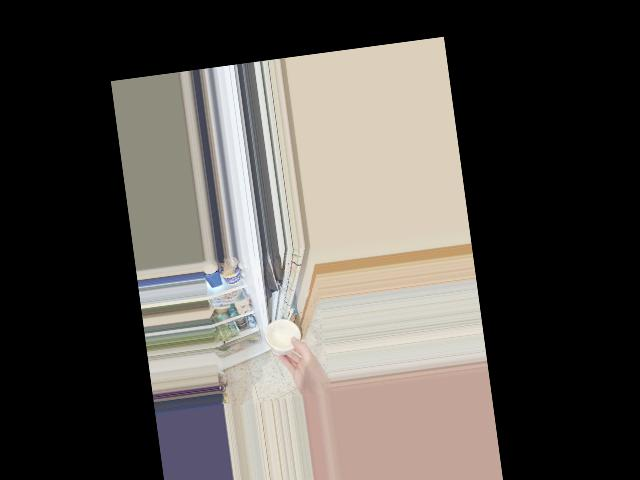cotage: (264, 316, 299, 358)
